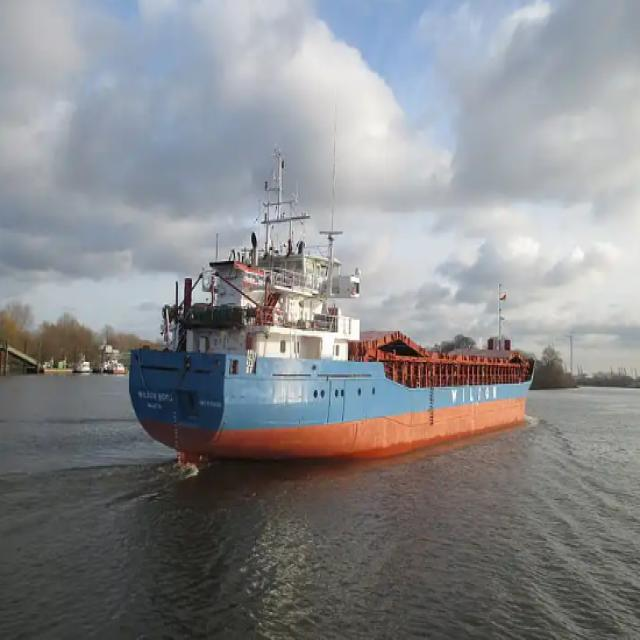cargoship: (114, 167, 536, 463)
